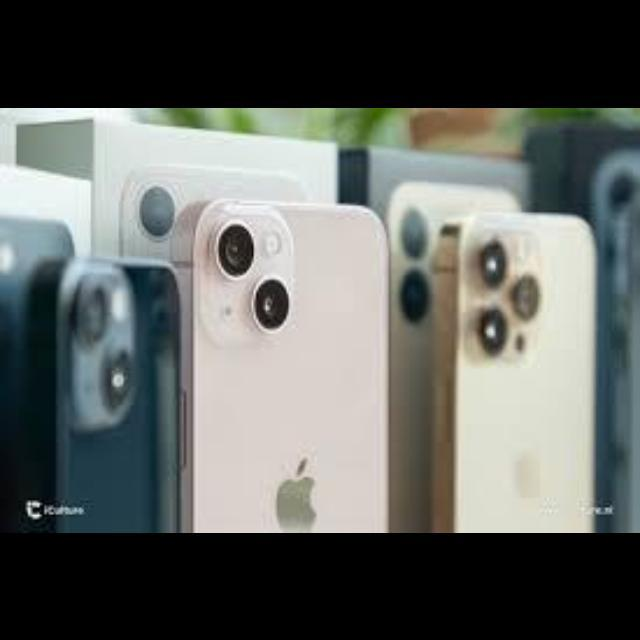Phone: (183, 203, 394, 533), (436, 219, 614, 533), (31, 250, 179, 532)
